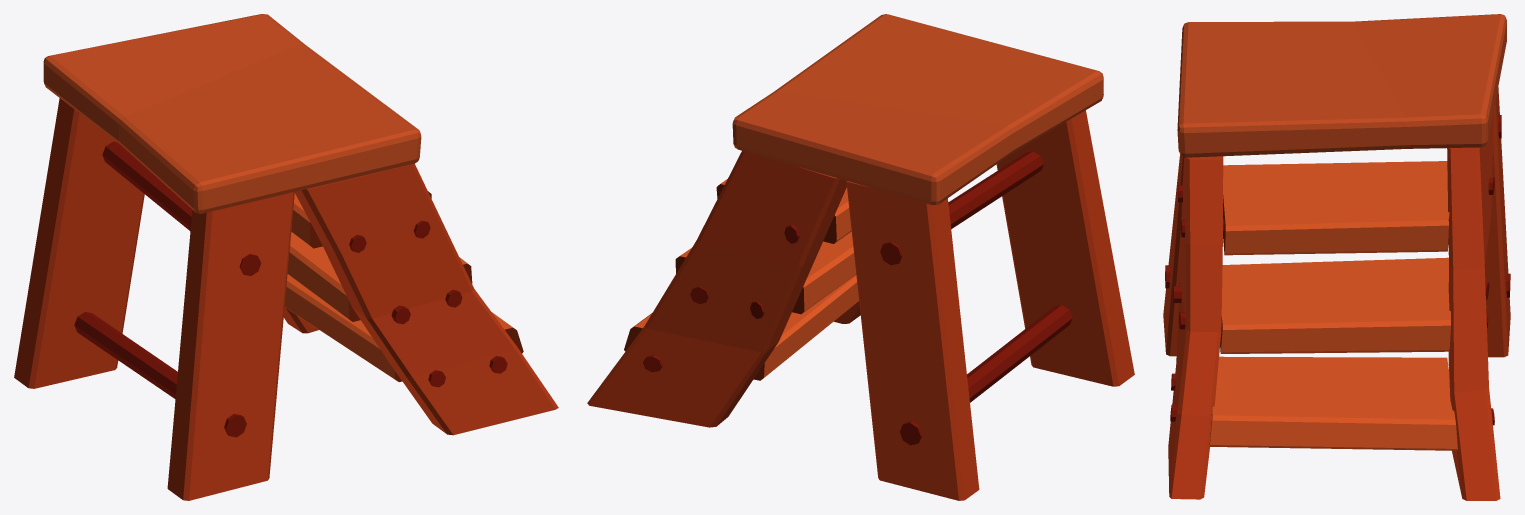
The model's file is winter_castle_item9.glb.
3 views of the same model, side by side, from view 1: azimuth 30°, elevation 25°; view 2: azimuth 150°, elevation 25°; view 3: azimuth 270°, elevation 25° (orthographic).
Visible parts, largest first — view 1: Item9_Medieval_0; view 2: Item9_Medieval_0; view 3: Item9_Medieval_0.
Part boxes in pixels (x1,y1,x2,y2): Item9_Medieval_0: (14,14,558,500); Item9_Medieval_0: (587,14,1134,500); Item9_Medieval_0: (1163,14,1510,500).
Size of the model in its own units: 0.4231 by 0.3348 by 0.3331.
Materials: 1 (1 with a texture image).
